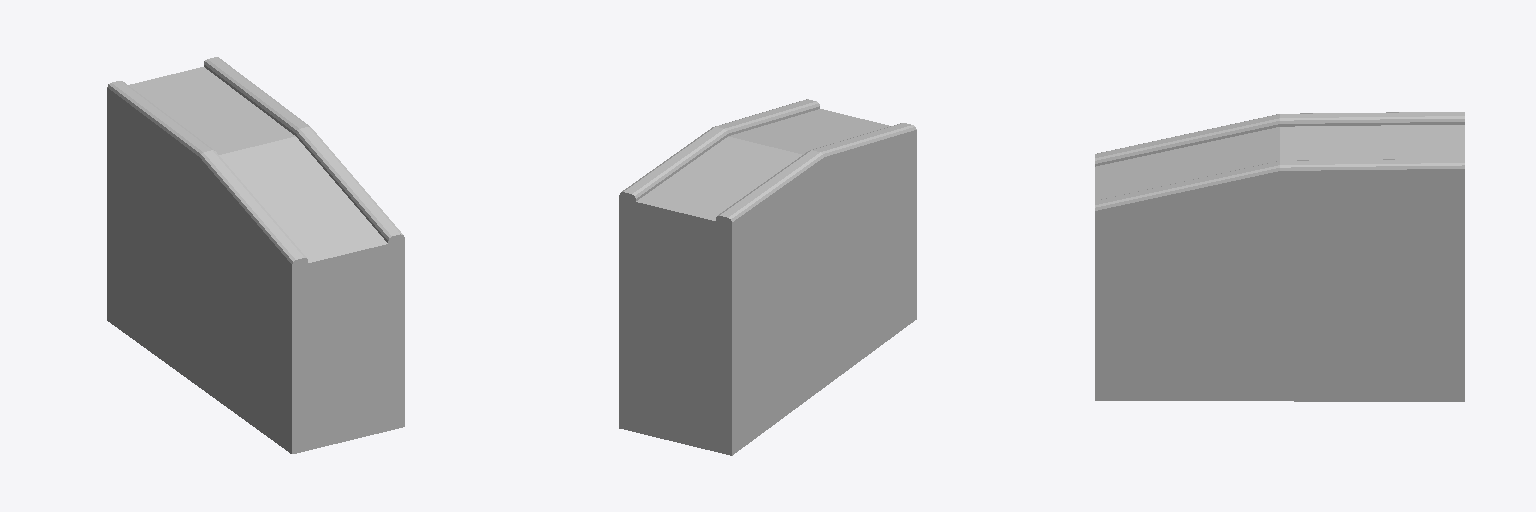
The model's file is PLATAFROMA_SUBIDA_3_escalado.obj.
The picture shows the model from 3 angles: view 1: azimuth 30°, elevation 25°; view 2: azimuth 150°, elevation 25°; view 3: azimuth 270°, elevation 25°; orthographic projection.
Visible parts, largest first — view 1: pasted__pCube4 group3; view 2: pasted__pCube4 group3; view 3: pasted__pCube4 group3.
Boxes of the visible parts, box(x1,y1,x2,y2) form: pasted__pCube4 group3: box(107, 57, 404, 453); pasted__pCube4 group3: box(619, 99, 916, 455); pasted__pCube4 group3: box(1095, 112, 1464, 401).
Bounding box in the file's own units: 212 × 426 × 601.